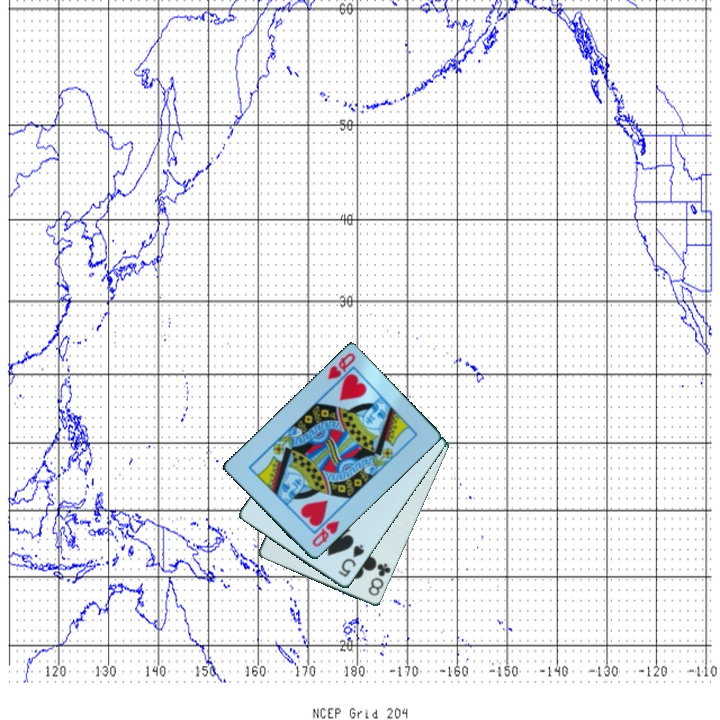5s: (335, 541, 367, 581)
8c: (365, 560, 394, 599)
Qh: (324, 350, 358, 383), (309, 517, 342, 550)
